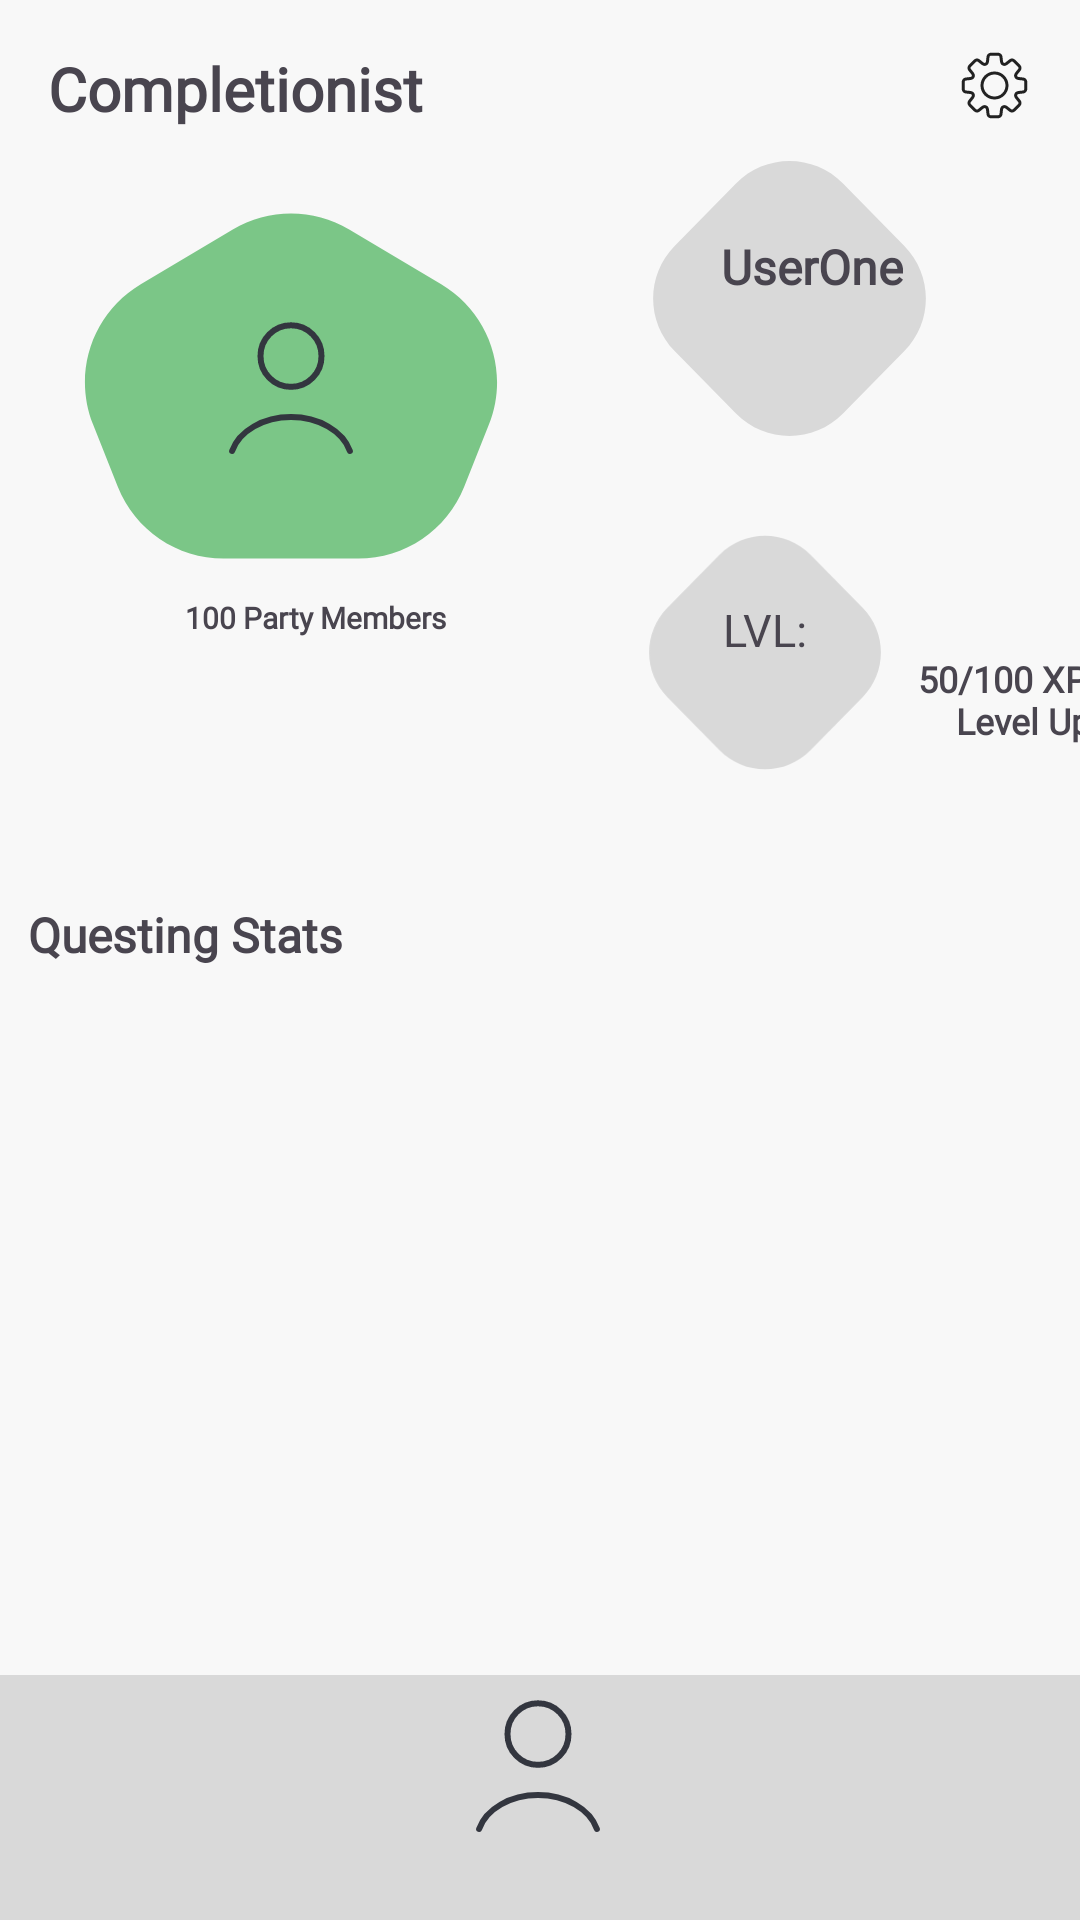

Screen size 1080x1920. Icon name, then its center in pixels as (x=x, y=y):
settings gear: (x=994, y=85)
